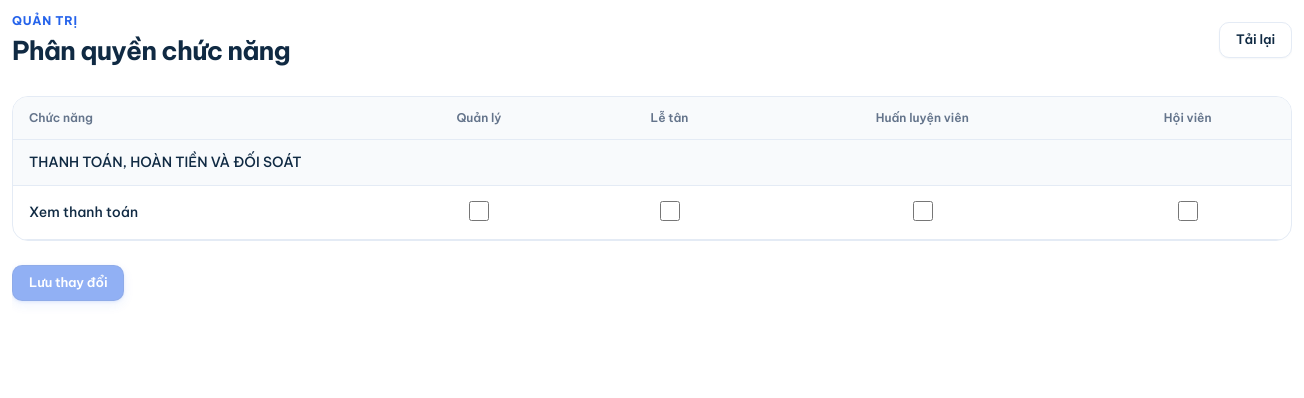
Admin role permission matrix › retains unsaved edits when reload fails
Click the checkbox named "Xem thanh toán — manager" at (479, 211), box [469, 201, 489, 221]
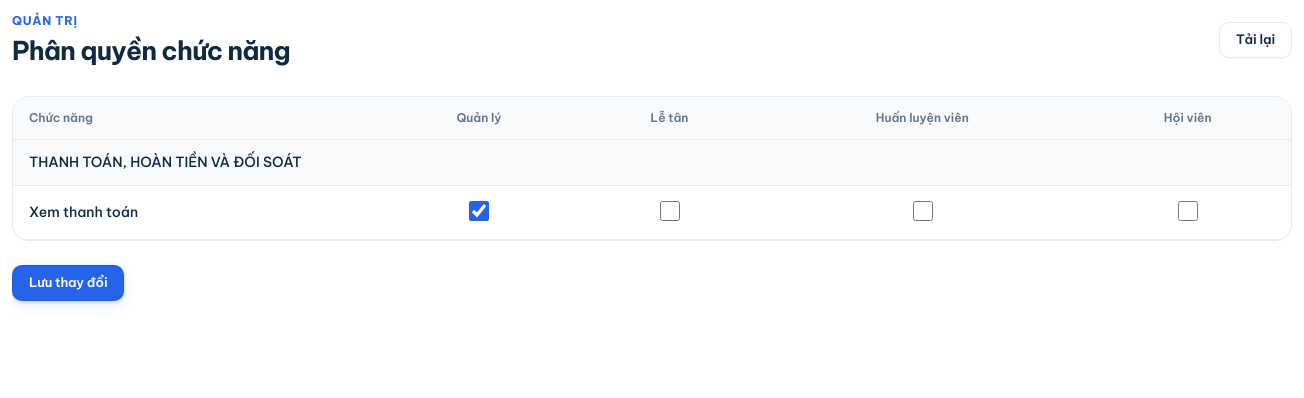
Click the button "Tải lại" at (1256, 40), box [1219, 22, 1292, 58]
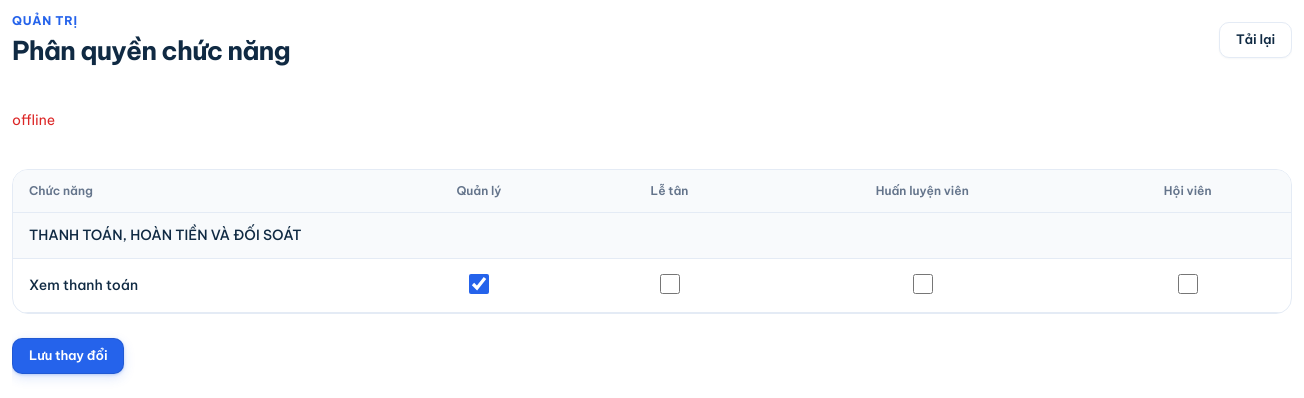
expect the checkbox named "Xem thanh toán — manager" is checked: met, box [469, 274, 489, 294]
expect the message reads "offline": met, box [12, 111, 55, 129]
